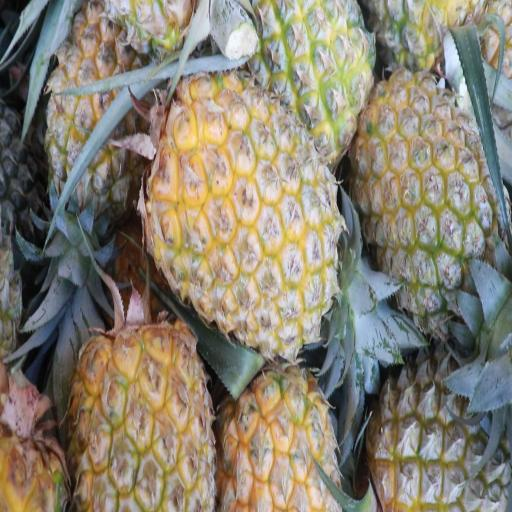------------------------------: (373, 336, 511, 512), (46, 2, 138, 188)
Pineapple - v8 v1: (160, 71, 346, 341), (360, 70, 490, 298), (258, 0, 370, 154)
